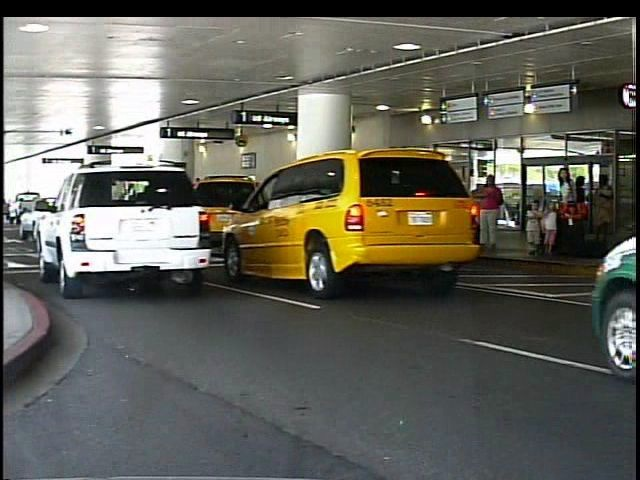person: (555, 165, 581, 257), (485, 171, 507, 257), (595, 174, 618, 243), (573, 174, 593, 243), (528, 199, 548, 255), (544, 201, 561, 254)
